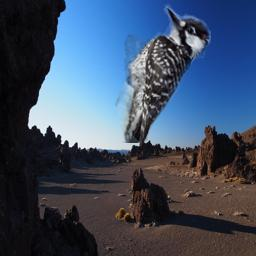Woodpecker: (99, 3, 211, 143)
